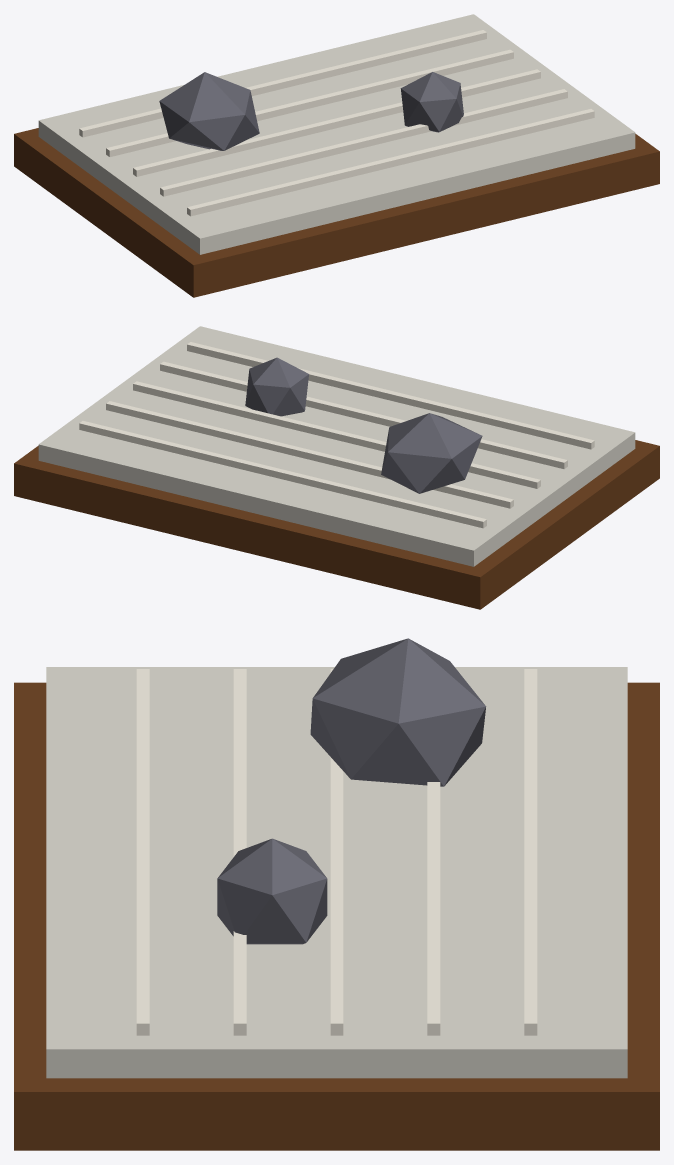
The model's file is zen_sand_garden.glb.
The picture shows the model from 3 angles, top to bottom: view 1: azimuth 30°, elevation 25°; view 2: azimuth 150°, elevation 25°; view 3: azimuth 270°, elevation 25°; orthographic projection. The views are drawn at different scales.
Parts seen in each view (by area): view 1: zen_sand_garden; view 2: zen_sand_garden; view 3: zen_sand_garden.
Part boxes in pixels (bbox=[...]): zen_sand_garden: bbox=[14, 14, 659, 297]; zen_sand_garden: bbox=[14, 326, 659, 609]; zen_sand_garden: bbox=[14, 638, 659, 1150].
Size of the model in its own units: 3 by 0.7137 by 2.
